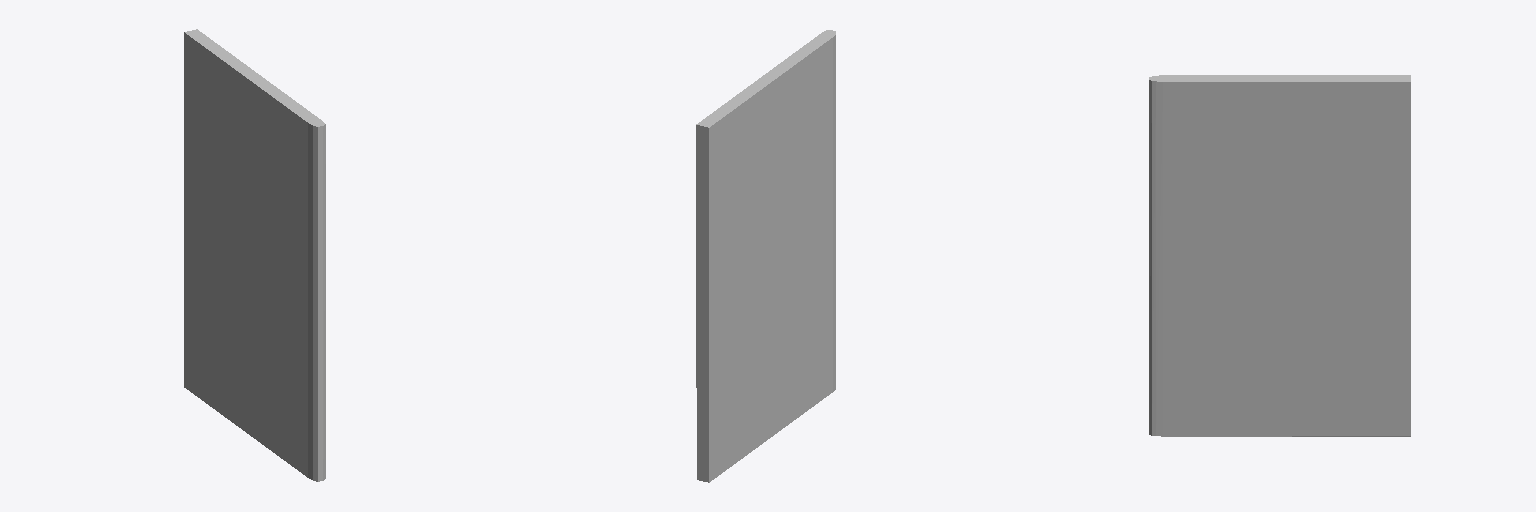
The model's file is Cart_pocket_collision_9.obj.
3 renders of one model, left to right at view 1: azimuth 30°, elevation 25°; view 2: azimuth 150°, elevation 25°; view 3: azimuth 270°, elevation 25°, orthographic.
Bounding box in the file's own units: 0.0137 × 0.358 × 0.2386.